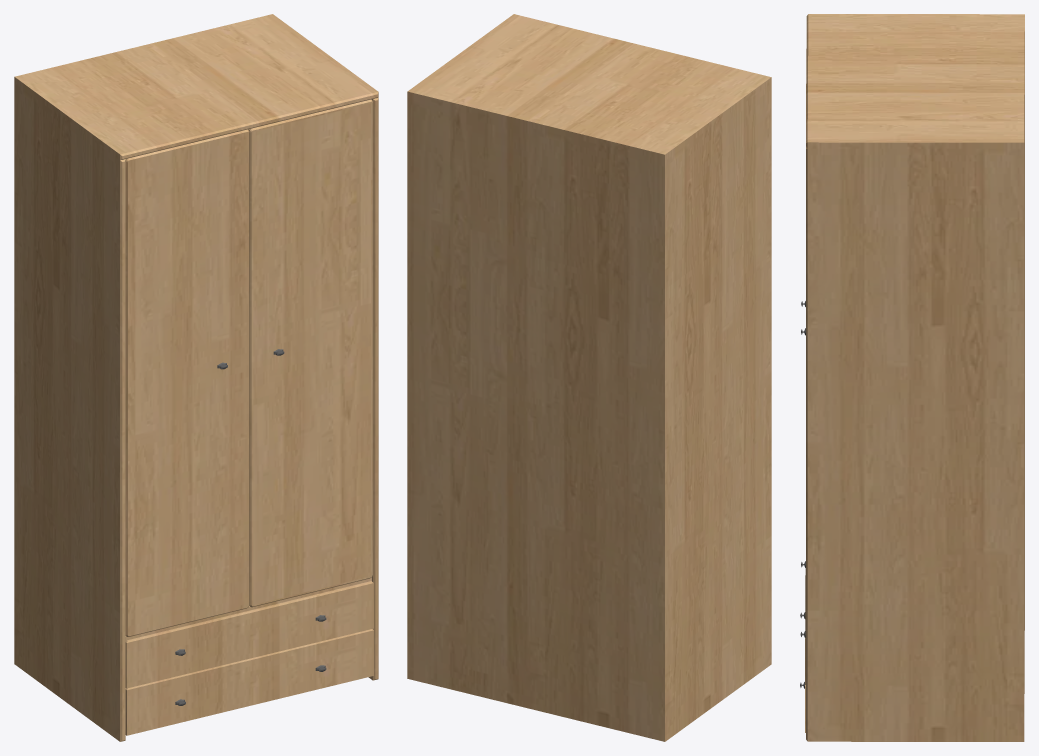
File: by-wardrobe.glb
3 renders of one model, left to right at view 1: azimuth 30°, elevation 25°; view 2: azimuth 150°, elevation 25°; view 3: azimuth 270°, elevation 25°, orthographic. The views are drawn at different scales.
Parts seen in each view (by area): view 1: Wardrobe, Anta, Anta.001, Drawer.001, Drawer; view 2: Wardrobe; view 3: Wardrobe.
Boxes of the visible parts, x1,y1,x2,y2 form: Wardrobe: [14, 14, 378, 741]; Anta: [125, 129, 249, 636]; Anta.001: [248, 99, 372, 607]; Drawer.001: [125, 581, 373, 688]; Drawer: [125, 629, 373, 735]; Wardrobe: [407, 14, 771, 741]; Wardrobe: [806, 14, 1024, 741].
Size of the model in its own units: 0.921 by 2 by 0.68.
2 materials, 1 textured.
